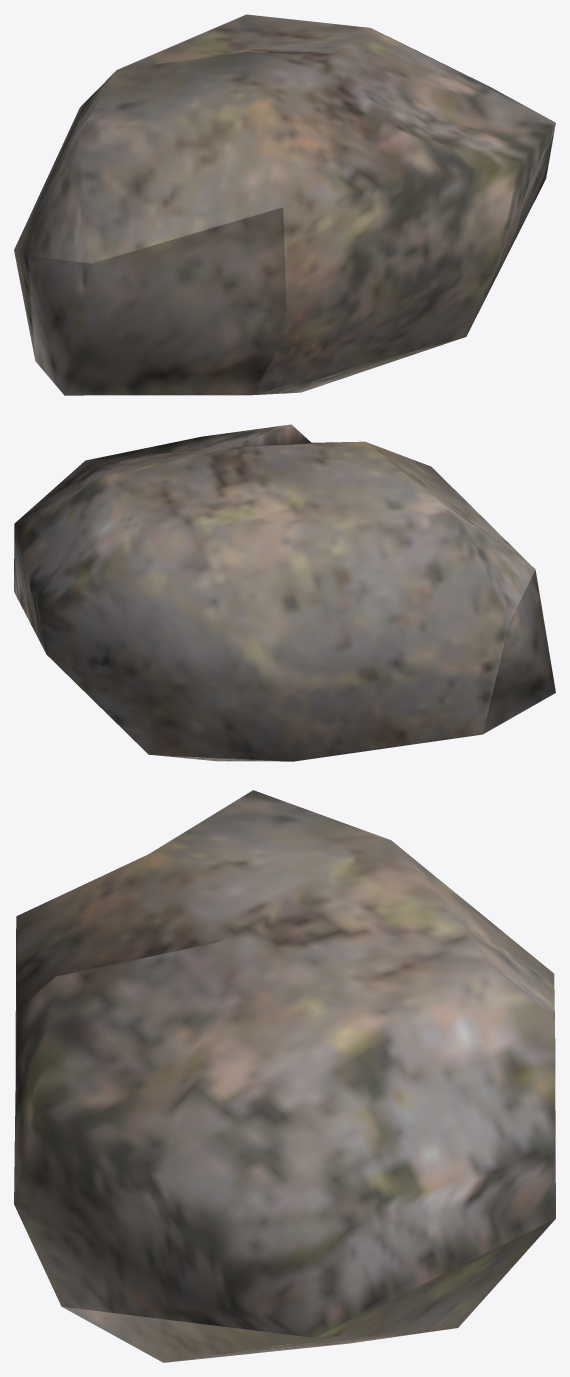
The model's file is SM_Stone06.FBX.
The picture shows the model from 3 angles, top to bottom: view 1: azimuth 30°, elevation 25°; view 2: azimuth 150°, elevation 25°; view 3: azimuth 270°, elevation 25°; orthographic projection. The views are drawn at different scales.
Parts seen in each view (by area): view 1: SM_Stone06; view 2: SM_Stone06; view 3: SM_Stone06.
Boxes of the visible parts, x1,y1,x2,y2 form: SM_Stone06: [14, 14, 555, 395]; SM_Stone06: [14, 424, 555, 761]; SM_Stone06: [14, 790, 555, 1362].
Size of the model in its own units: 111 by 73.23 by 66.15.
